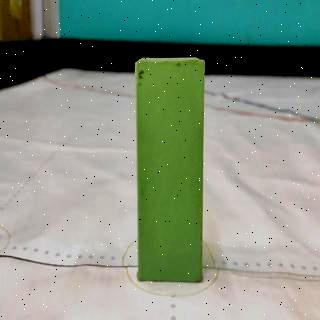greenbox: (136, 59, 204, 285)
